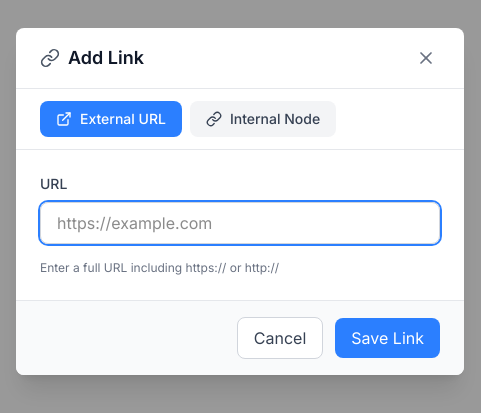
Test: NodeLinkEditor › clears error when typing in URL field
Click the button "Save Link" at (388, 338), box [335, 318, 440, 358]
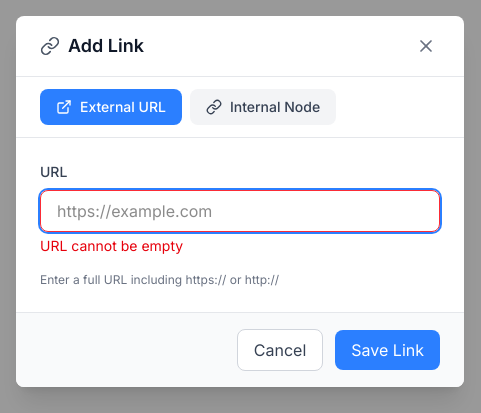
Expected: the text "URL cannot be empty" is shown, [40, 236, 183, 254]
Type "https://test.com" into the field with placeholder "https://example.com" at (240, 210), box [40, 190, 440, 232]
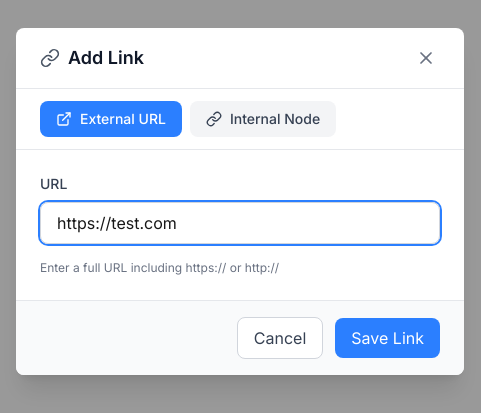
Expected: the text "URL cannot be empty" is gone
